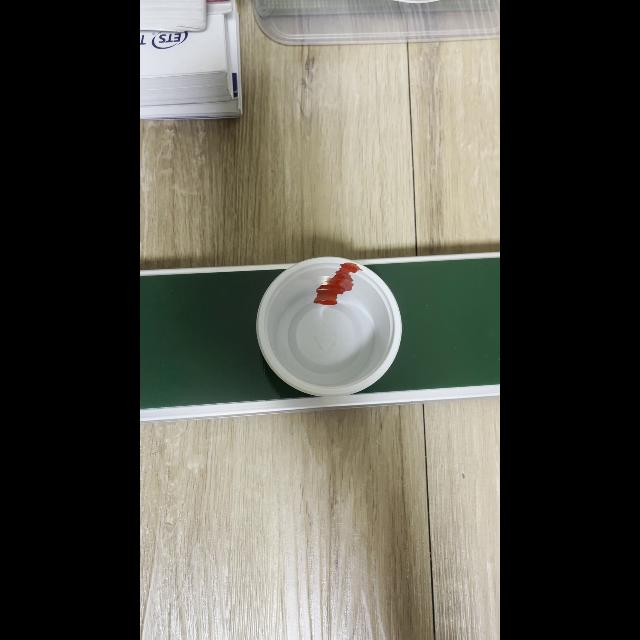dirty: (256, 258, 400, 396)
